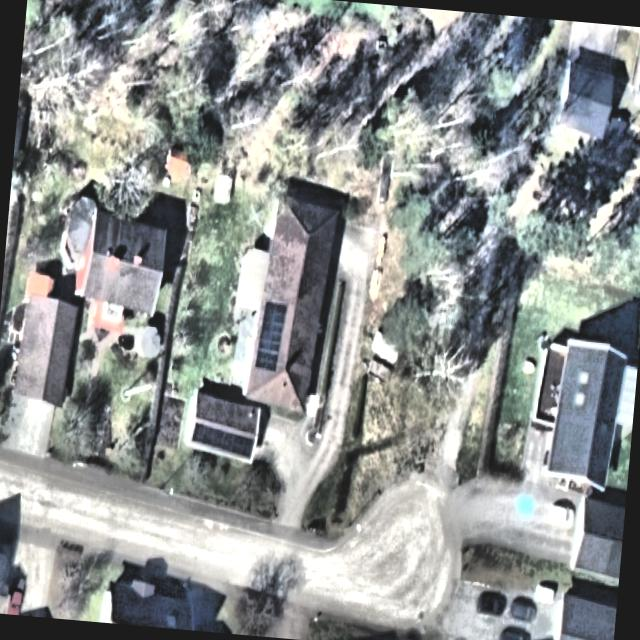roof_pv: (254, 296, 288, 376), (190, 422, 256, 461)
